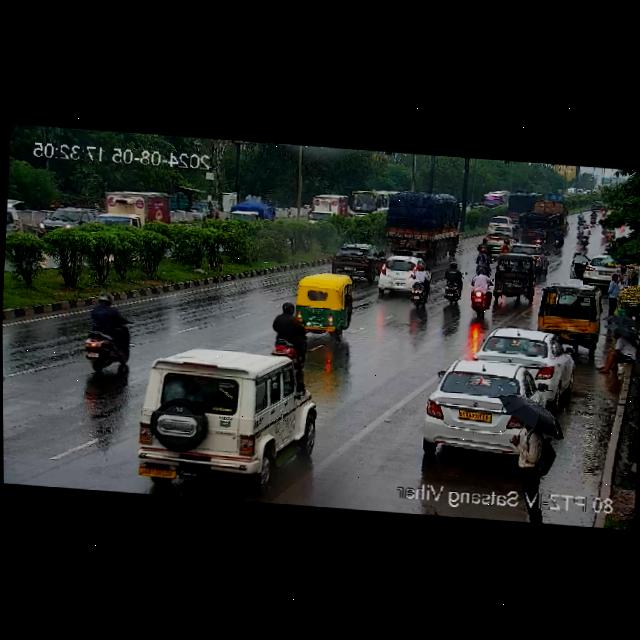bus: (304, 191, 347, 226), (346, 189, 386, 223), (480, 191, 508, 211)
car: (141, 353, 303, 491), (423, 359, 543, 459), (476, 330, 562, 396), (294, 270, 355, 332), (539, 282, 599, 345), (493, 253, 541, 303), (37, 202, 98, 240), (375, 252, 425, 290), (327, 243, 376, 276), (579, 252, 623, 284), (508, 242, 543, 266), (5, 202, 21, 241), (482, 233, 514, 251), (486, 214, 514, 234)
motorcycle: (80, 293, 135, 374), (273, 300, 307, 362), (465, 265, 495, 318), (408, 264, 433, 311), (440, 261, 465, 307), (474, 247, 491, 275)
person: (512, 401, 542, 490), (596, 329, 636, 374), (605, 272, 620, 315), (618, 268, 629, 286)
truck: (386, 190, 462, 257), (97, 191, 173, 239), (519, 200, 566, 245), (506, 190, 544, 226), (230, 198, 275, 223)
